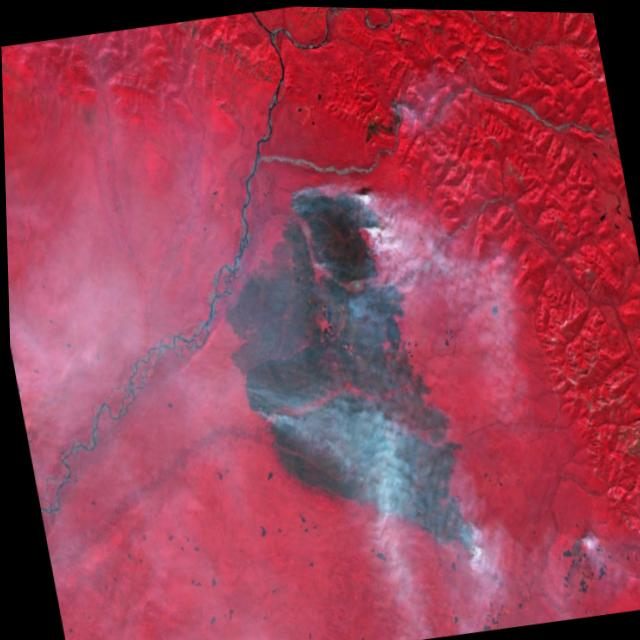fire: (402, 480, 507, 610), (282, 155, 396, 259), (233, 354, 298, 452), (562, 517, 608, 568)
